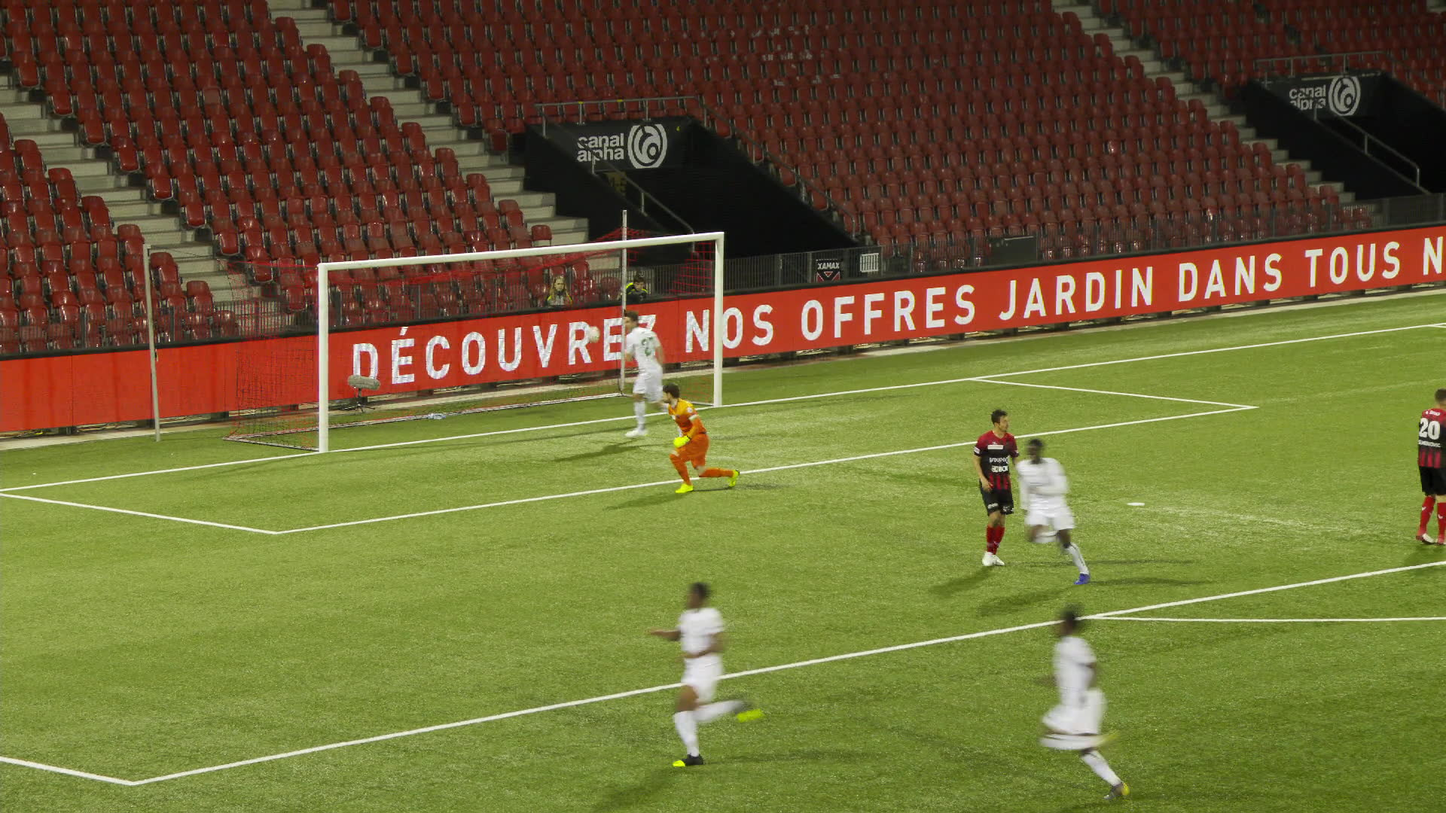ball: (583, 336, 596, 352)
player: (657, 579, 756, 763), (1036, 605, 1130, 796), (1016, 432, 1088, 581), (968, 412, 1023, 569), (660, 384, 738, 493), (623, 315, 685, 440), (1406, 385, 1445, 544)
